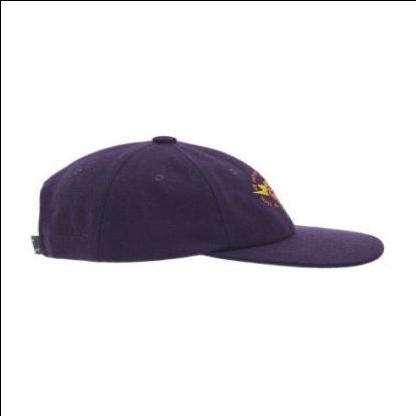cap: (16, 126, 399, 281)
